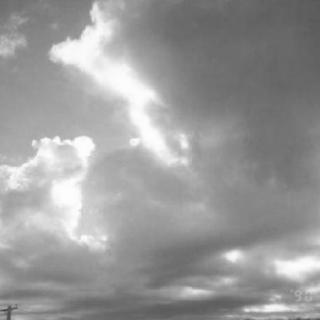Stratus: (0, 0, 320, 286)
